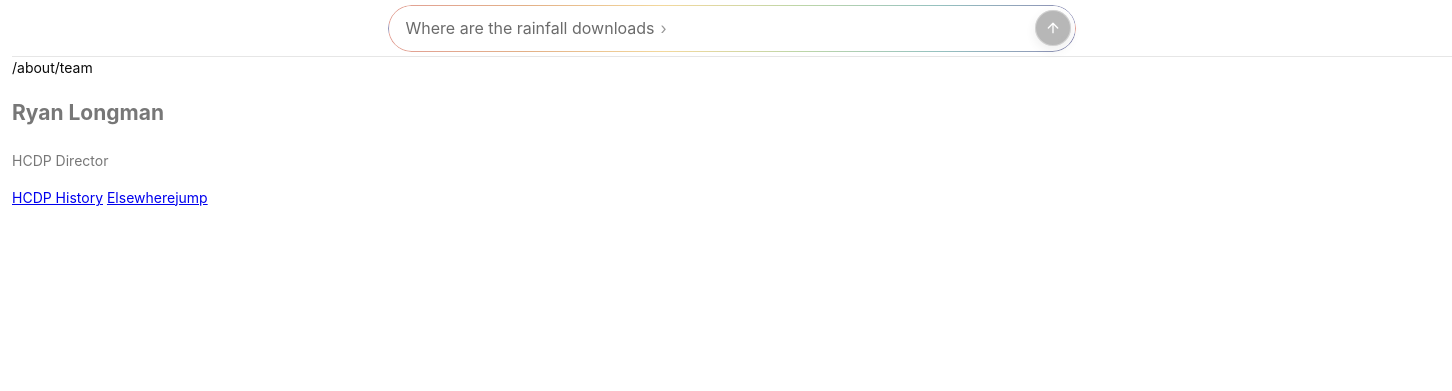
Test: the AI overview on a mirrored page › a navigation’s per-question overview replaces the cached one, above the band
The width and height of the screenshot is (1452, 391).
Type "how did HCDP start" into the text box with test id "assistant-input" at (718, 28), box [402,16,1034,40]
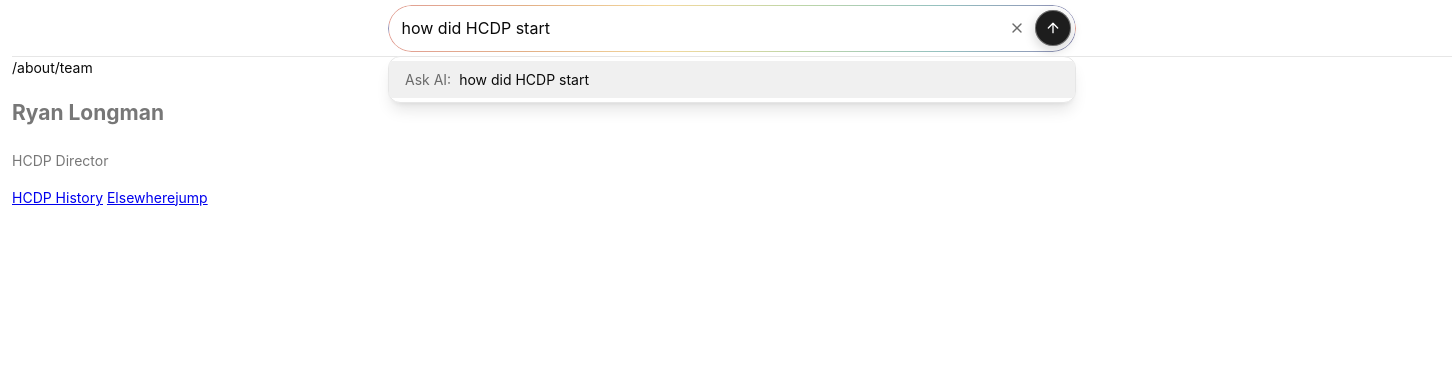
Press Enter in the text box with test id "assistant-input", box [402,16,1002,40]
Wait 1250 ms
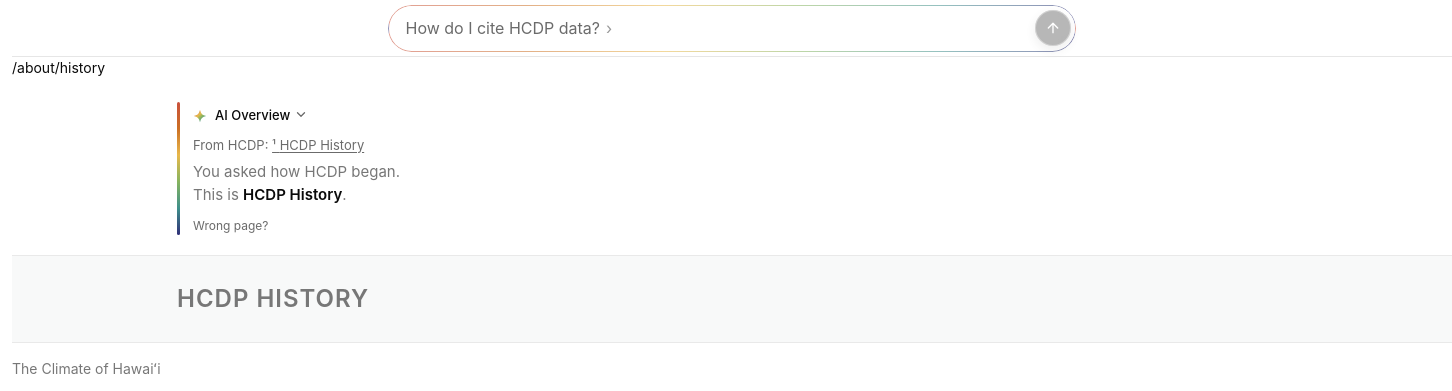
expect the text with test id "probe" reads "/about/history": met, box [12,59,105,76]
expect the number of elements with test id "ai-summary" is 1: met, box [177,102,488,235]
expect the text with test id "ai-summary-term" reads "HCDP History": met, box [243,184,342,204]
